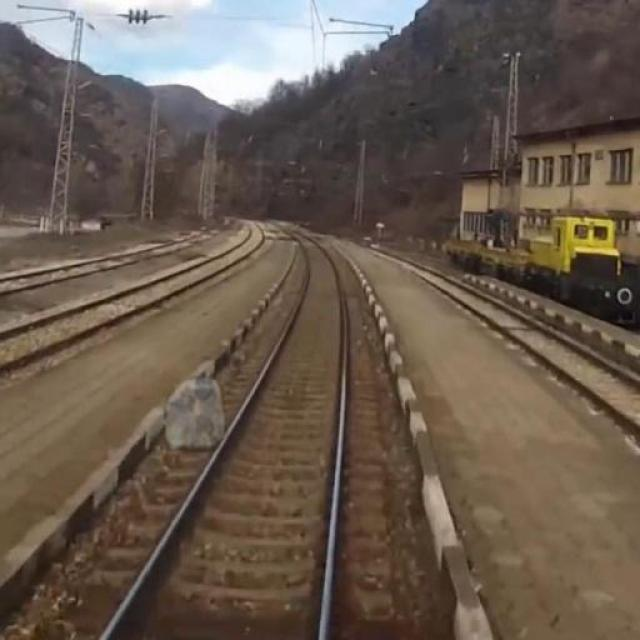Stone: (158, 377, 231, 459)
